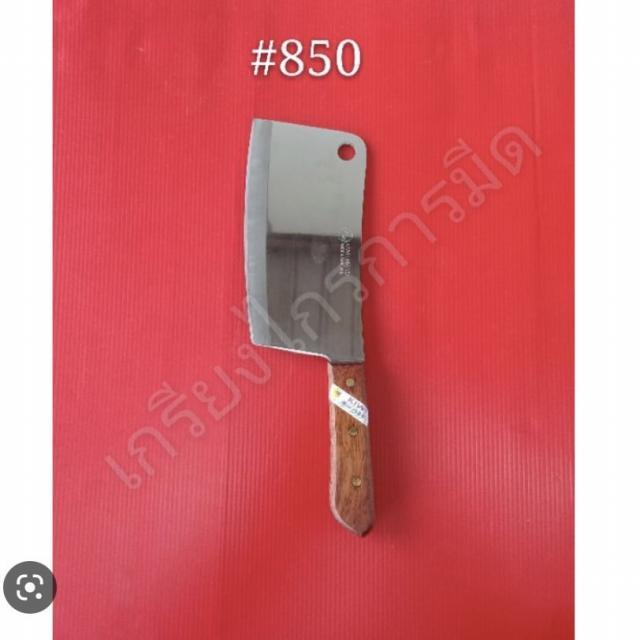Knife: (224, 95, 440, 564)
